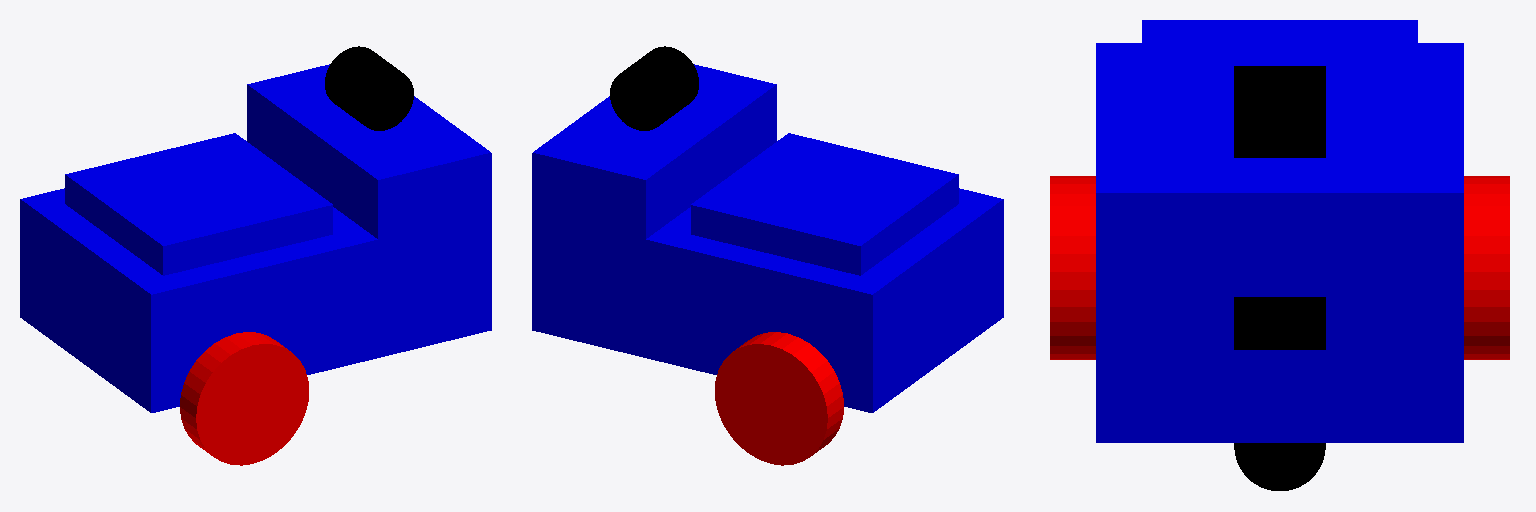
robot.urdf — mobile_manipulator:
<?xml version="1.0"?>
<robot name="mobile_manipulator">
    
 
    <material name="blue">
        <color rgba="0 0 1 0.5"/> 
    </material>

    <material name="red">
        <color rgba="1 0 0 1"/> 
    </material>
    
    <material name="black">
        <color rgba="0 0 0 1"/>
    </material>

    <link name="base_footprint"/>

    <link name="base_link">
        <visual>
            <geometry>
                <box size="0.6 0.4 0.2"/> 
            </geometry>
            <origin xyz="0 0 0.1" rpy="0 0 0"/> 
            <material name="blue"/>
        </visual>
        <collision>
            <geometry>
                <box size="0.6 0.4 0.2"/> 
            </geometry>
            <origin xyz="0 0 0.1" rpy="0 0 0"/> 
        </collision>
        <inertial>
            <origin xyz="0 0 0.1" rpy="0 0 0"/> 
            <mass value="2.0"/>
            <inertia ixx="0.033333" ixy="0.0" ixz="0.0"
                    iyy="0.066667" iyz="0.0"
                    izz="0.086667"/>
        </inertial>
    </link>

    <link name="holder_link">
        <visual>
            <geometry>
                <box size="0.2 0.4 0.1"/> 
            </geometry>
            <origin xyz="0 0 0" rpy="0 0 0"/> 
            <material name="blue"/>
        </visual>
        <collision>
            <geometry>
                <box size="0.6 0.4 0.2"/> 
            </geometry>
            <origin xyz="0 0 0.1" rpy="0 0 0"/> 
        </collision>
        <inertial>
            <origin xyz="0 0 0.1" rpy="0 0 0"/> 
            <mass value="2.0"/>
            <inertia ixx="0.033333" ixy="0.0" ixz="0.0"
                    iyy="0.066667" iyz="0.0"
                    izz="0.086667"/>
        </inertial>
    </link>

    <link name="right_wheel_link">
        <visual>
            <geometry>
                <cylinder radius="0.1" length="0.05"/> 
            </geometry>
            <origin xyz="0 0 0" rpy="1.57 0 0"/> 
            <material name="red"/>
        </visual>
        <collision>
            <geometry>
                <cylinder radius="0.1" length="0.05"/>
            </geometry>
            <origin xyz="0 0 0" rpy="1.57 0 0"/>
        </collision>
        <inertial>
            <origin xyz="0 0 0" rpy="1.57 0 0"/> 
            <mass value="2.5"/>
            <inertia ixx="0.006771" ixy="0.0" ixz="0.0"
                    iyy="0.006771" iyz="0.0"
                    izz="0.012500"/>
        </inertial>
    </link>


    <link name="left_wheel_link">
        <visual>        
            <geometry>
                <cylinder radius="0.1" length="0.05"/>
            </geometry>
            <origin xyz="0 0 0" rpy="1.57 0 0"/>  
            <material name="red"/>
        </visual>
        <collision>
            <geometry>
                <cylinder radius="0.1" length="0.05"/>
            </geometry>
            <origin xyz="0 0 0" rpy="1.57 0 0"/>
        </collision>
        <inertial>
            <origin xyz="0 0 0" rpy="1.57 0 0"/> 
            <mass value="2.5"/>
            <inertia ixx="0.006771" ixy="0.0" ixz="0.0"
                    iyy="0.006771" iyz="0.0"
                    izz="0.012500"/>
        </inertial>
    </link>

    <link name="castor_wheel_link">
        <visual>
            <geometry>
                <sphere radius="0.05" />
            </geometry>
            <origin xyz="0 0 0" rpy="0 0 0"/>  
            <material name="black"/>
        </visual>
        <collision>
            <geometry>
                <sphere radius="0.05" />
            </geometry>
            <origin xyz="0 0 0" rpy="0 0 0"/>
        </collision>
        <inertial>
            <mass value="1.0"/>
            <origin xyz="0 0 0" rpy="0 0 0"/>  
            <inertia ixx="0.001000" ixy="0.0" ixz="0.0"
                    iyy="0.001000" iyz="0.0"
                    izz="0.001000"/>
        </inertial>
    </link>

    <link name="lift_platform_link">
        <visual>
            <geometry>
                <box size="0.3 0.3 0.05"/> 
            </geometry>
            <origin xyz="0 0 0" rpy="0 0 0"/> 
            <material name="blue"/>
        </visual>
        <collision>
            <geometry>
                <box size="0.3 0.3 0.05"/>
            </geometry>
            <origin xyz="0 0 0" rpy="0 0 0"/> 
        </collision>
        <inertial>
            <origin xyz="0 0 0" rpy="0 0 0"/> 
            <mass value="1.0"/>
            <inertia ixx="0.0075" ixy="0.0" ixz="0.0" iyy="0.0075" iyz="0.0" izz="0.015"/>
        </inertial>
    </link>

    <link name="imu_link">
        <visual>        
            <geometry>
                <box size="0.1 0.1 0.1"/>
            </geometry>
            <origin xyz="0 0 0" rpy="0 0 0"/>
            <material name="black"/>
        </visual>
        <collision>
            <geometry>
                <box size="0.1 0.1 0.1"/>
            </geometry>
            <origin xyz="0 0 0" rpy="0 0 0"/>
        </collision>
        <inertial>
        <mass value="0.1"/>
        <inertia ixx="0.000104" ixy="0.0" ixz="0.0"
                iyy="0.000028" iyz="0.0"
                izz="0.000091"/>
        </inertial>
    </link>

    <joint name="imu_joint" type="fixed">
        <parent link="base_link"/> 
        <child link="imu_link"/>
        <origin xyz="-0.1 0 0.1" rpy="0 0 0"/>
    </joint>
    <link name="base_scan">
        <visual>        
            <geometry>
                <cylinder radius="0.05" length="0.1"/>
            </geometry>
            <origin xyz="0 0 0" rpy="-1.5708 0 0"/>
            <material name="black"/>
        </visual>
        <collision>
            <geometry>
                <cylinder radius="0.05" length="0.1"/>
            </geometry>
            <origin xyz="0 0 0" rpy="-1.5708 0 0"/>
        </collision>
        <inertial>
        <mass value="0.1"/>
        <inertia ixx="0.000104" ixy="0.0" ixz="0.0"
                iyy="0.000028" iyz="0.0"
                izz="0.000091"/>
        </inertial>
    </link>

    <joint name="base_scan_joint" type="fixed">
        <parent link="base_link"/> 
        <child link="base_scan"/>
        <origin xyz="0.2 0 0.35" rpy="0 0 0"/>
    </joint>
    <link name="camera_link">
        <visual>        
            <geometry>
                <box size="0.03 0.1 0.05"/>
            </geometry>
            <origin xyz="0 0 0" rpy="0 0 0"/>
            <material name="black"/>
        </visual>
        <collision>
            <geometry>
                <box size="0.03 0.1 0.05"/>
            </geometry>
            <origin xyz="0 0 0" rpy="0 0 0"/>
        </collision>
        <inertial>
        <mass value="0.1"/>
        <inertia ixx="0.000104" ixy="0.0" ixz="0.0"
                iyy="0.000028" iyz="0.0"
                izz="0.000091"/>
        </inertial>
    </link>

    <joint name="base_camera_joint" type="fixed">
        <parent link="base_link"/> 
        <child link="camera_link"/>
        <origin xyz="0.315 0 0.15" rpy="0 0 0"/>
    </joint>

    <joint name="base_footprint_to_base_link_joint" type="fixed">
        <parent link="base_footprint"/> 
        <child link="base_link"/>
        <origin xyz="0 0 0.1" rpy="0 0 0"/> 
    </joint>

    <joint name="base_right_wheel_joint" type="continuous">
        <parent link="base_link"/> 
        <child link="right_wheel_link"/>
        <origin xyz="-0.15 -0.225 0" rpy="0 0 0"/> 
        <axis xyz="0 1 0"/> 
    </joint> 

    <joint name="base_left_wheel_joint" type="continuous">
        <parent link="base_link"/> 
        <child link="left_wheel_link"/>
        <origin xyz="-0.15 0.225 0" rpy="0 0 0"/> 
        <axis xyz="0 1 0"/> 
    </joint>


    <joint name="base_castor_wheel_joint" type="fixed">
        
        <parent link="base_link"/> 
        <child link="castor_wheel_link"/>
        <origin xyz="0.2 0 -0.05" rpy="0 0 0"/>  
    </joint>
    
    <joint name="lift_joint" type="prismatic">
        <parent link="base_link"/> 
        <child link="lift_platform_link"/>
        <origin xyz="-0.1 0 0.225" rpy="0 0 0"/> 
        <axis xyz="0 0 1"/> <limit lower="0.0" upper="1.0" effort="100.0" velocity="0.5"/> 
    </joint>

    

    <joint name="base_holder_joint" type="fixed">
        <parent link="base_link"/> 
        <child link="holder_link"/>
        <origin xyz="0.2 0 0.25" rpy="0 0 0"/>
    </joint>

    <gazebo>
        <plugin filename="gz-sim-joint-state-publisher-system" name="gz::sim::systems::JointStatePublisher">
            <topic>joint_states</topic> 
            <joint_name>base_left_wheel_joint</joint_name>
            <joint_name>base_right_wheel_joint</joint_name>
            <joint_name>lift_joint</joint_name>
        </plugin>
    </gazebo>

    <gazebo>
        <plugin filename="gz-sim-diff-drive-system" name="gz::sim::systems::DiffDrive">
            <left_joint>base_left_wheel_joint</left_joint>
            <right_joint>base_right_wheel_joint</right_joint>
            <wheel_separation>0.45</wheel_separation>
            <wheel_radius>0.1</wheel_radius>
            <frame_id>odom</frame_id>
            <topic>cmd_vel</topic> 
            <odom_publish_frequency>50</odom_publish_frequency>
            <publish_odom>true</publish_odom>
            <publish_odom_tf>true</publish_odom_tf>
            <publish_wheel_tf>true</publish_wheel_tf>
            <publish_wheel_joint_state>true</publish_wheel_joint_state>
            <odom_topic>odom</odom_topic>
            <child_frame_id>base_footprint</child_frame_id>
        </plugin>
    </gazebo>
    
    <gazebo>
        <plugin filename="gz-sim-joint-position-controller-system" name="gz::sim::systems::JointPositionController">
            <joint_name>lift_joint</joint_name>
            <p_gain>10000</p_gain>
            <i_gain>0.1</i_gain>
            <d_gain>100</d_gain>
            <i_max>1</i_max>
            <i_min>-1</i_min>
            <cmd_max>1000</cmd_max>
            <cmd_min>-1000</cmd_min>
            <topic>lift_joint/cmd_pos</topic>
        </plugin>
    </gazebo>

    <gazebo reference="castor_wheel_link">
        <mu1>0.1</mu1>
        <mu2>0.1</mu2>
    </gazebo>
    

    <gazebo reference="base_scan">
        <sensor name="gpu_lidar" type="gpu_lidar">
            <update_rate>10</update_rate>
            <topic>scan</topic>
            <gz_frame_id>base_scan</gz_frame_id>
            <lidar>
                <scan>
                    <horizontal>
                        <samples>720</samples>
                        <resolution>1</resolution>
                        <min_angle>-3.14156</min_angle>
                        <max_angle>3.14156</max_angle>
                    </horizontal>
                </scan>
                <range>
                    <min>0.05</min>
                    <max>10.0</max>
                    <resolution>0.01</resolution>
                </range>
                <noise>
                    <type>gaussian</type>
                    <mean>0.0</mean>
                    <stddev>0.01</stddev>
                </noise>
            </lidar>
            <always_on>1</always_on>
            <visualize>true</visualize>
        </sensor>
    </gazebo>
    <gazebo reference="camera_link">
        <sensor name="camera_sensor" type="camera">
            <camera>
                <horizontal_fov>1.047</horizontal_fov>
                <image>
                    <width>640</width>
                    <height>480</height>
                    <format>R8G8B8</format>
                </image>
                <clip>
                    <near>0.1</near>
                    <far>100</far>
                </clip>
                <noise>
                    <type>gaussian</type>
                    <mean>0.0</mean>
                    <stddev>0.007</stddev>
                </noise>
                <optical_frame_id>camera_link</optical_frame_id>
                <camera_info_topic>camera/camera_info</camera_info_topic>
            </camera>
            <always_on>1</always_on>
            <update_rate>30.0</update_rate>
            <visualize>true</visualize>
            <topic>camera/image_raw</topic>
        </sensor>
    </gazebo>
    <gazebo reference="imu_link">
        <sensor name="imu" type="imu">
            <always_on>1</always_on>
            <update_rate>50.0</update_rate>
            <visualize>true</visualize>
            <topic>imu/data</topic> 
            <enable_metrics>true</enable_metrics>
        </sensor>
    </gazebo>
</robot>

--- Render facts (derived) ---
Views: 3 orthographic renders of the robot side by side, from view 1: azimuth 30°, elevation 25°; view 2: azimuth 150°, elevation 25°; view 3: azimuth 270°, elevation 25°.
Robot: mobile_manipulator — 10 links, 9 joints (2 continuous, 1 prismatic, 6 fixed); root link base_footprint; default pose: every joint at zero.
Links seen in each view (by area): view 1: base_link, holder_link, lift_platform_link, right_wheel_link, base_scan; view 2: base_link, holder_link, lift_platform_link, left_wheel_link, base_scan; view 3: base_link, holder_link, lift_platform_link, right_wheel_link, left_wheel_link, base_scan, camera_link, castor_wheel_link.
Link boxes in pixels (left/top/right/bottom): base_link: left=20, top=188, right=491, bottom=412; holder_link: left=247, top=64, right=491, bottom=238; lift_platform_link: left=65, top=133, right=332, bottom=275; right_wheel_link: left=180, top=332, right=308, bottom=465; base_scan: left=325, top=46, right=413, bottom=130; base_link: left=532, top=188, right=1003, bottom=412; holder_link: left=532, top=64, right=776, bottom=238; lift_platform_link: left=691, top=133, right=958, bottom=275; left_wheel_link: left=715, top=332, right=843, bottom=465; base_scan: left=610, top=46, right=698, bottom=130; base_link: left=1096, top=43, right=1463, bottom=442; holder_link: left=1096, top=115, right=1463, bottom=275; lift_platform_link: left=1142, top=20, right=1417, bottom=114; right_wheel_link: left=1050, top=176, right=1095, bottom=359; left_wheel_link: left=1464, top=176, right=1509, bottom=359; base_scan: left=1234, top=66, right=1325, bottom=157; camera_link: left=1234, top=297, right=1325, bottom=349; castor_wheel_link: left=1234, top=443, right=1325, bottom=490.
Bounding box of the posed robot: 0.63 × 0.5002 × 0.5 m (x, y, z).
Geometry: primitives only (box / cylinder / sphere), no mesh files.
